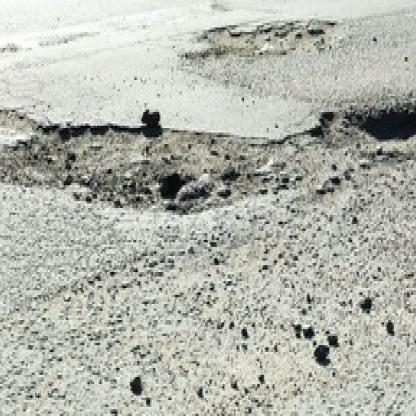pothole: (21, 119, 279, 206), (312, 103, 416, 164), (199, 18, 338, 55)
